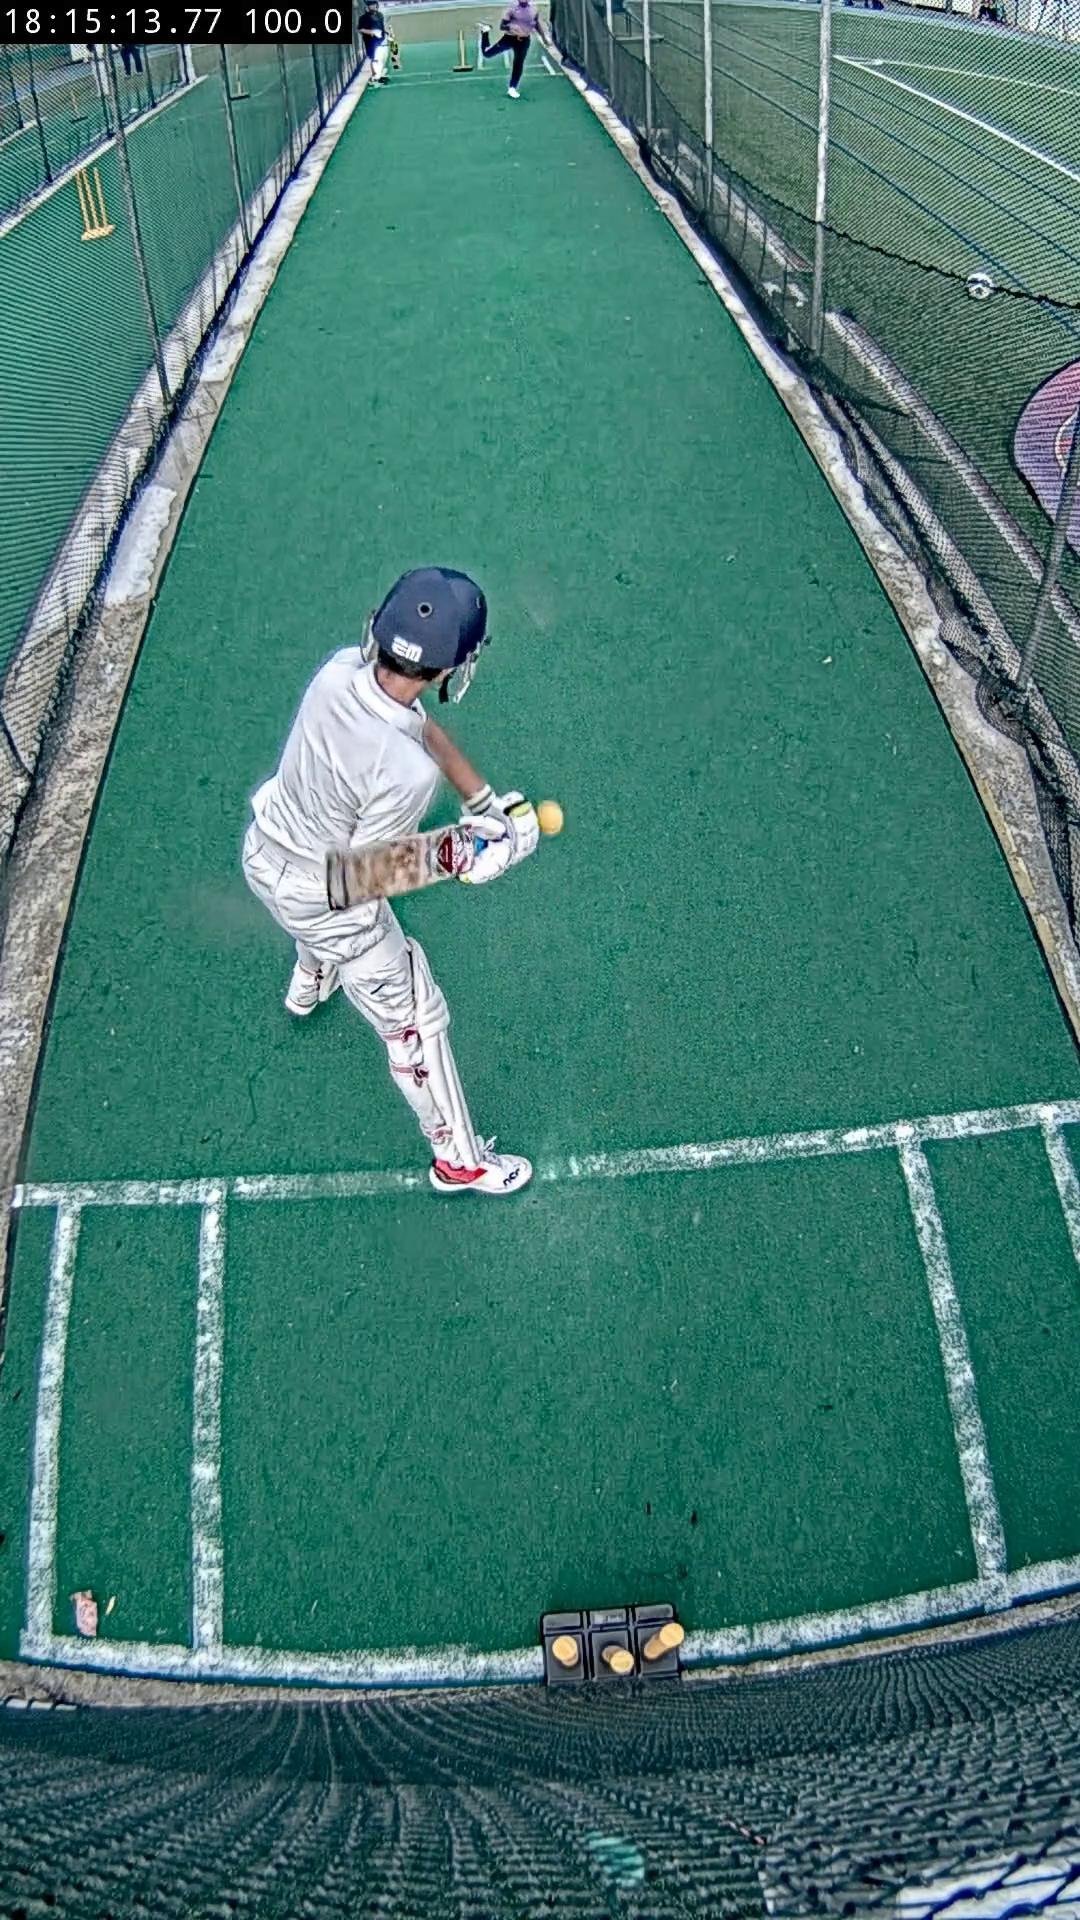ball: (537, 799, 566, 836)
bat: (326, 825, 472, 911)
gloves: (458, 787, 541, 885)
helmet: (372, 566, 488, 671)
pads: (409, 942, 484, 1166)
stumps: (541, 1605, 686, 1688)
